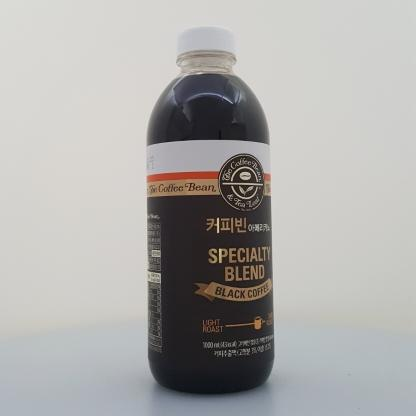--------: (145, 25, 275, 394)
